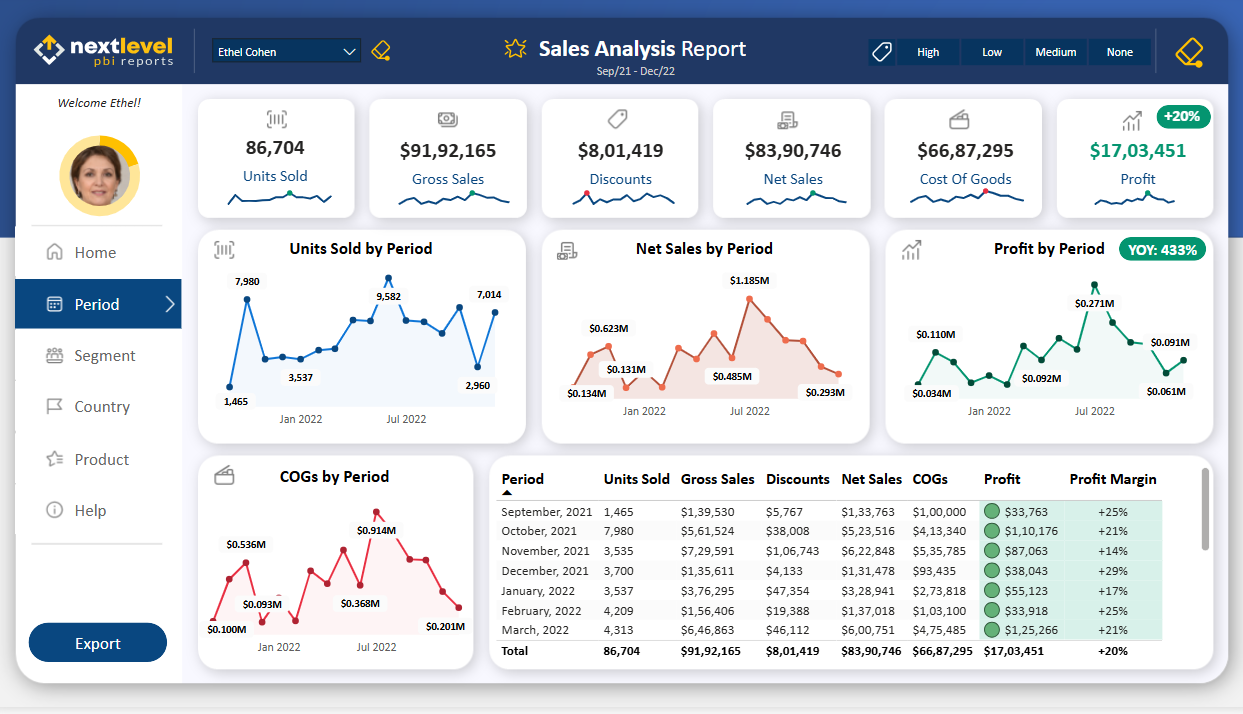

The page's visual inventory and layout, read from the dashboard file:
{"tool":"powerbi","page":{"name":"Home","canvas":[1280,720],"ordinal":0},"visuals":[{"type":"actionButton","title":"Button_Icon_Units Sold","box":[1221,13,32,32],"z":0,"group":"g8"},{"type":"actionButton","title":"Button_Clear Managers","box":[952,26,36,25],"z":0,"group":"g6"},{"type":"textbox","box":[1012,49,240,65],"z":0,"group":"g9"},{"type":"textbox","box":[1011,209,240,80],"z":0,"group":"g10"},{"type":"textbox","title":"Text box_Main Info","box":[80,224,456,69],"z":0,"group":"g4"},{"type":"actionButton","title":"Button_NetSales","box":[1168,289.7,85,30],"z":0,"group":"g7"},{"type":"shape","title":"Shape_COGs","box":[1016,356.3,78,31],"z":0,"group":"g5"},{"type":"textbox","box":[1012,381,240,59],"z":0,"group":"g11"},{"type":"group","id":"g1","title":"Right Pane Net Profits","box":[1004,514,249,135],"z":0,"group":"g3"},{"type":"textbox","box":[1010,547,242,65],"z":0,"group":"g12"},{"type":"actionButton","title":"Button_NetProfit","box":[1168,619,85,30],"z":0,"group":"g1"},{"type":"group","id":"g2","title":"Footer","box":[21,670,1243,41],"z":0},{"type":"actionButton","title":"Button Logo","box":[1119,673,145,38],"z":0,"group":"g2"},{"type":"group","id":"g3","title":"Right Pane","box":[996,13,257,636],"z":500},{"type":"slicer","title":"Slicer_Managers","fields":{"Values":["DIM_MANAGERS.Manager Name"]},"box":[788,17,170,45],"z":1000,"group":"g6"},{"type":"card","fields":{"Values":["*Measures.M_Date Selection"]},"box":[1056,49,96,32],"z":1000,"group":"g9"},{"type":"actionButton","title":"Button_Units Sold","box":[1168,125,85,30],"z":1000,"group":"g8"},{"type":"group","id":"g4","title":"Main Area","box":[73,157,487,136],"z":1000},{"type":"textbox","title":"Text box_Title","box":[145,175,415,70],"z":1000,"group":"g4"},{"type":"actionButton","title":"Button_Icon_Net Sales","box":[1221,180,32,32],"z":1000,"group":"g7"},{"type":"card","fields":{"Values":["*Measures.M_Date Selection"]},"box":[1053,201,96,48],"z":1000,"group":"g10"},{"type":"group","id":"g5","title":"Right Pane COGs","box":[1010,347,243,137.3],"z":1000,"group":"g3"},{"type":"textbox","title":"Text box_COGs","box":[1010,347,100,30],"z":1000,"group":"g5"},{"type":"card","fields":{"Values":["*Measures.M_Date Selection"]},"box":[1056,381,96,29],"z":1000,"group":"g11"},{"type":"shape","title":"Shape_NetProfit","box":[1016,523,55,31],"z":1000,"group":"g1"},{"type":"card","fields":{"Values":["*Measures.M_Date Selection"]},"box":[1054.4,547,96.8,32],"z":1000,"group":"g12"},{"type":"actionButton","title":"Button_web _url","box":[215,670,135,40],"z":1000,"group":"g2"},{"type":"group","id":"g6","title":"Header","box":[46,11,942,54],"z":2000},{"type":"actionButton","title":"Button_Product","box":[491,17,90,40],"z":2000,"group":"g6"},{"type":"shape","title":"Shape_Units Sold","box":[1016,23,56,31],"z":2000,"group":"g8"},{"type":"card","fields":{"Values":["*Measures.M_Units Sold"]},"box":[1006,65,96,24],"z":2000,"group":"g9"},{"type":"actionButton","title":"Button_Main Icon","box":[73,157,80,80],"z":2000,"group":"g4"},{"type":"group","id":"g7","title":"Right Pane Net Sales","box":[996,180,257,139.7],"z":2000,"group":"g3"},{"type":"shape","title":"Shape_Net Sales","box":[1016,189.7,51,31],"z":2000,"group":"g7"},{"type":"card","fields":{"Values":["*Measures.M_Gross Sales"]},"box":[1038,225,100.3,30.6],"z":2000,"group":"g10"},{"type":"actionButton","title":"Button_Icon_COGs","box":[1221,347,32,32],"z":2000,"group":"g5"},{"type":"card","fields":{"Values":["*Measures.M_Cost Of Goods"]},"box":[1042,396.4,96,21.8],"z":2000,"group":"g11"},{"type":"actionButton","title":"Button_Icon_NetProfit","box":[1221,514,32,32],"z":2000,"group":"g1"},{"type":"card","fields":{"Values":["*Measures.M_Profit"]},"box":[1004,563,96.8,24],"z":2000,"group":"g12"},{"type":"shape","title":"Shape_line","box":[191,673,35,35],"z":2000,"group":"g2"},{"type":"group","id":"g8","title":"Right Pane_Units Sold","box":[1006,13,247,142],"z":3000,"group":"g3"},{"type":"textbox","title":"Text box_Units Sold","box":[1010,13,100,30],"z":3000,"group":"g8"},{"type":"actionButton","title":"Button_Country","box":[397,17,90,40],"z":3000,"group":"g6"},{"type":"card","fields":{"Values":["*Measures.M_# of Distinct Segments"]},"box":[1128,65,32,32],"z":3000,"group":"g9"},{"type":"textbox","title":"Text box_Net Sales","box":[1010,180,100,30],"z":3000,"group":"g7"},{"type":"card","fields":{"Values":["*Measures.M_Discounts"]},"box":[996,241,96,32],"z":3000,"group":"g10"},{"type":"actionButton","title":"Button_COGs","box":[1168,454.3,85,30],"z":3000,"group":"g5"},{"type":"textbox","title":"Text box_Net_Profit","box":[1010,514,100,30],"z":3000,"group":"g1"},{"type":"actionButton","title":"Button_tiktok","box":[167,679,22,22],"z":3000,"group":"g2"},{"type":"group","id":"g9","title":"Unit_Sold","box":[1006,49,246,65],"z":3500,"group":"g8"},{"type":"group","id":"g10","title":"Net_Sales","box":[996,201,255,88],"z":3500,"group":"g7"},{"type":"group","id":"g11","title":"COGs","box":[1012,381,240,59],"z":3500,"group":"g5"},{"type":"group","id":"g12","title":"Net_Profit","box":[1004,547,248,65],"z":3500,"group":"g1"},{"type":"actionButton","title":"Button_Segment","box":[303,17,90,40],"z":4000,"group":"g6"},{"type":"card","fields":{"Values":["*Measures.M_# of Distinct Countries"]},"box":[1212,65,24,32],"z":4000,"group":"g9"},{"type":"card","fields":{"Values":["*Measures.M_Net Sales"]},"box":[1068,258,100,30],"z":4000,"group":"g10"},{"type":"card","fields":{"Values":["*Measures.M_Profit Margin Formatted"]},"box":[1004,579,48,32],"z":4000,"group":"g12"},{"type":"actionButton","title":"Button_instagram","box":[108.6,679,22,22],"z":4000,"group":"g2"},{"type":"actionButton","title":"Button_Period","box":[209,17,90,40],"z":5000,"group":"g6"},{"type":"actionButton","title":"Button_linkdin","box":[137.8,679,22,22],"z":5000,"group":"g2"},{"type":"shape","title":"Home_Active","box":[143,34,35,31],"z":6000,"group":"g6"},{"type":"actionButton","title":"Button_twitter","box":[79.4,679,22,22],"z":6000,"group":"g2"},{"type":"actionButton","title":"Button_Home","box":[115,17,90,40],"z":7000,"group":"g6"},{"type":"actionButton","title":"Button_youtube","box":[50.2,679,22,22],"z":7000,"group":"g2"},{"type":"actionButton","title":"Button_Logo","box":[46,11,50,50],"z":8000,"group":"g6"},{"type":"actionButton","title":"Button_facebook","box":[21,679,22,22],"z":8000,"group":"g2"}]}

Visuals, with their boxes in screenshot pixels (x1, y1, x2, y2), scaled from the page's 1280x720 canvas onto the 1243x714 screenshot:
"Button_Icon_Units Sold" actionButton: bbox(1186, 13, 1217, 45)
"Button_Clear Managers" actionButton: bbox(924, 26, 959, 51)
textbox: bbox(983, 49, 1216, 113)
textbox: bbox(982, 207, 1215, 287)
"Text box_Main Info" textbox: bbox(78, 222, 521, 291)
"Button_NetSales" actionButton: bbox(1134, 287, 1217, 317)
"Shape_COGs" shape: bbox(987, 353, 1062, 384)
textbox: bbox(983, 378, 1216, 436)
"Right Pane Net Profits" group: bbox(975, 510, 1217, 644)
textbox: bbox(981, 542, 1216, 607)
"Button_NetProfit" actionButton: bbox(1134, 614, 1217, 644)
"Footer" group: bbox(20, 664, 1227, 705)
"Button Logo" actionButton: bbox(1087, 667, 1227, 705)
"Right Pane" group: bbox(967, 13, 1217, 644)
"Slicer_Managers" slicer: bbox(765, 17, 930, 61)
card - *Measures.M_Date Selection: bbox(1025, 49, 1119, 80)
"Button_Units Sold" actionButton: bbox(1134, 124, 1217, 154)
"Main Area" group: bbox(71, 156, 544, 291)
"Text box_Title" textbox: bbox(141, 174, 544, 243)
"Button_Icon_Net Sales" actionButton: bbox(1186, 178, 1217, 210)
card - *Measures.M_Date Selection: bbox(1023, 199, 1116, 247)
"Right Pane COGs" group: bbox(981, 344, 1217, 480)
"Text box_COGs" textbox: bbox(981, 344, 1078, 374)
card - *Measures.M_Date Selection: bbox(1025, 378, 1119, 407)
"Shape_NetProfit" shape: bbox(987, 519, 1040, 549)
card - *Measures.M_Date Selection: bbox(1024, 542, 1118, 574)
"Button_web _url" actionButton: bbox(209, 664, 340, 704)
"Header" group: bbox(45, 11, 959, 64)
"Button_Product" actionButton: bbox(477, 17, 564, 57)
"Shape_Units Sold" shape: bbox(987, 23, 1041, 54)
card - *Measures.M_Units Sold: bbox(977, 64, 1070, 88)
"Button_Main Icon" actionButton: bbox(71, 156, 149, 235)
"Right Pane Net Sales" group: bbox(967, 178, 1217, 317)
"Shape_Net Sales" shape: bbox(987, 188, 1036, 219)
card - *Measures.M_Gross Sales: bbox(1008, 223, 1105, 253)
"Button_Icon_COGs" actionButton: bbox(1186, 344, 1217, 376)
card - *Measures.M_Cost Of Goods: bbox(1012, 393, 1105, 415)
"Button_Icon_NetProfit" actionButton: bbox(1186, 510, 1217, 541)
card - *Measures.M_Profit: bbox(975, 558, 1069, 582)
"Shape_line" shape: bbox(185, 667, 219, 702)
"Right Pane_Units Sold" group: bbox(977, 13, 1217, 154)
"Text box_Units Sold" textbox: bbox(981, 13, 1078, 43)
"Button_Country" actionButton: bbox(386, 17, 473, 57)
card - *Measures.M_# of Distinct Segments: bbox(1095, 64, 1126, 96)
"Text box_Net Sales" textbox: bbox(981, 178, 1078, 208)
card - *Measures.M_Discounts: bbox(967, 239, 1060, 271)
"Button_COGs" actionButton: bbox(1134, 451, 1217, 480)
"Text box_Net_Profit" textbox: bbox(981, 510, 1078, 539)
"Button_tiktok" actionButton: bbox(162, 673, 184, 695)
"Unit_Sold" group: bbox(977, 49, 1216, 113)
"Net_Sales" group: bbox(967, 199, 1215, 287)
"COGs" group: bbox(983, 378, 1216, 436)
"Net_Profit" group: bbox(975, 542, 1216, 607)
"Button_Segment" actionButton: bbox(294, 17, 382, 57)
card - *Measures.M_# of Distinct Countries: bbox(1177, 64, 1200, 96)
card - *Measures.M_Net Sales: bbox(1037, 256, 1134, 286)
card - *Measures.M_Profit Margin Formatted: bbox(975, 574, 1022, 606)
"Button_instagram" actionButton: bbox(105, 673, 127, 695)
"Button_Period" actionButton: bbox(203, 17, 290, 57)
"Button_linkdin" actionButton: bbox(134, 673, 155, 695)
"Home_Active" shape: bbox(139, 34, 173, 64)
"Button_twitter" actionButton: bbox(77, 673, 98, 695)
"Button_Home" actionButton: bbox(112, 17, 199, 57)
"Button_youtube" actionButton: bbox(49, 673, 70, 695)
"Button_Logo" actionButton: bbox(45, 11, 93, 60)
"Button_facebook" actionButton: bbox(20, 673, 42, 695)
